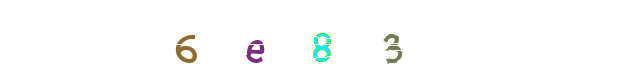3: (281, 0, 361, 80)
6: (215, 0, 295, 80)
8: (270, 0, 350, 80)
E: (242, 0, 322, 80)
